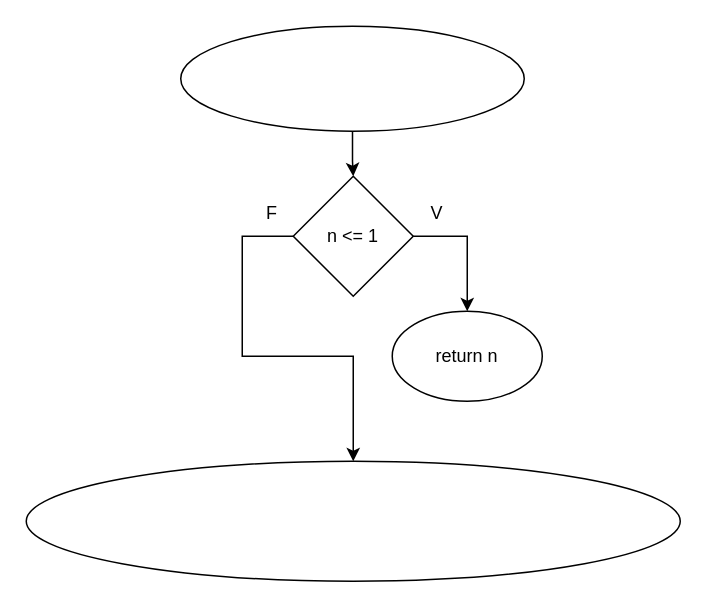
Image size: 707x608. Some labels were removed from this diagram. Here are the shapes that lost their labels. From the top down, the centre of each, then its label:
At [351,78]: "int calcularFibonacciRecursion(int n)".
At [352,520]: "return calcularFibonacciRecursion(n - 1) + calcularFibonacciRecursion(n - 2)".
